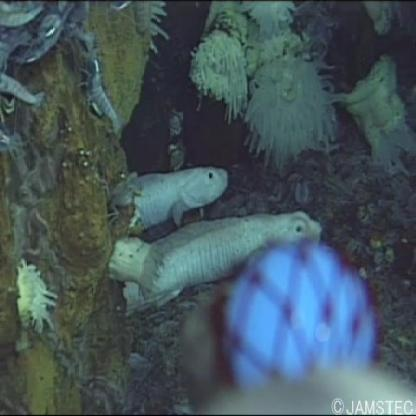Bio: (113, 208, 326, 314), (242, 54, 352, 169), (122, 160, 232, 234), (76, 42, 121, 138)
